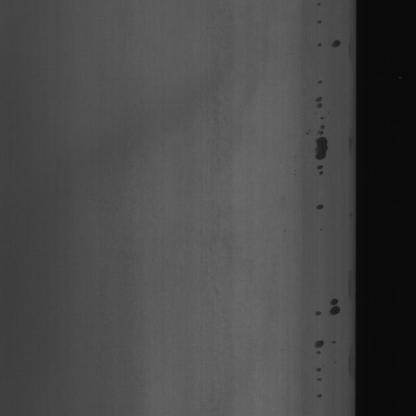oil_spot: (311, 0, 330, 217), (312, 296, 347, 407), (329, 25, 343, 56)
